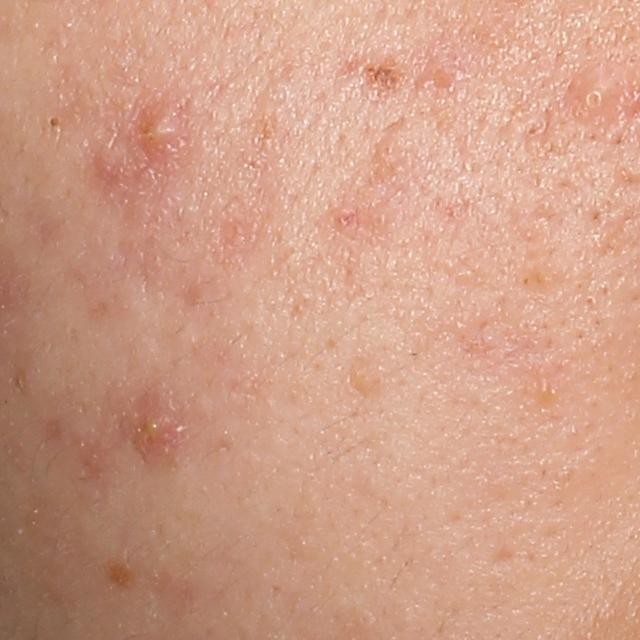atrophic_scar: (485, 544, 514, 576)
comedo: (346, 356, 386, 400), (46, 113, 64, 132)
nevus: (358, 47, 407, 97)
